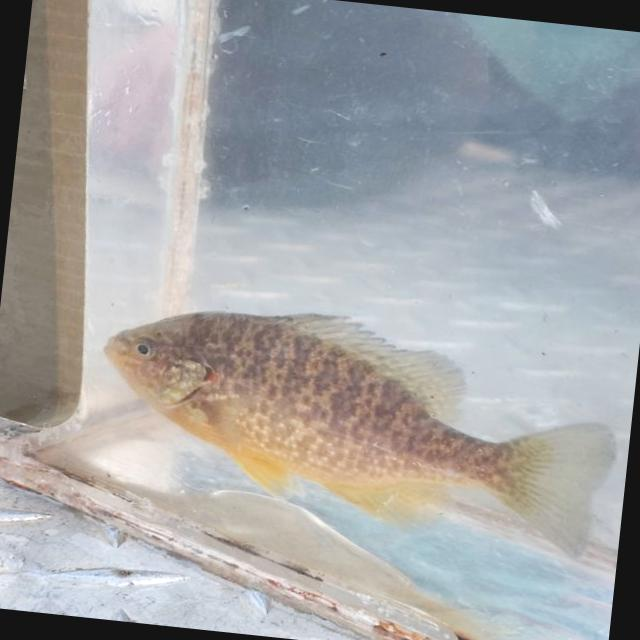Gunes Levregi: (80, 282, 630, 564)
